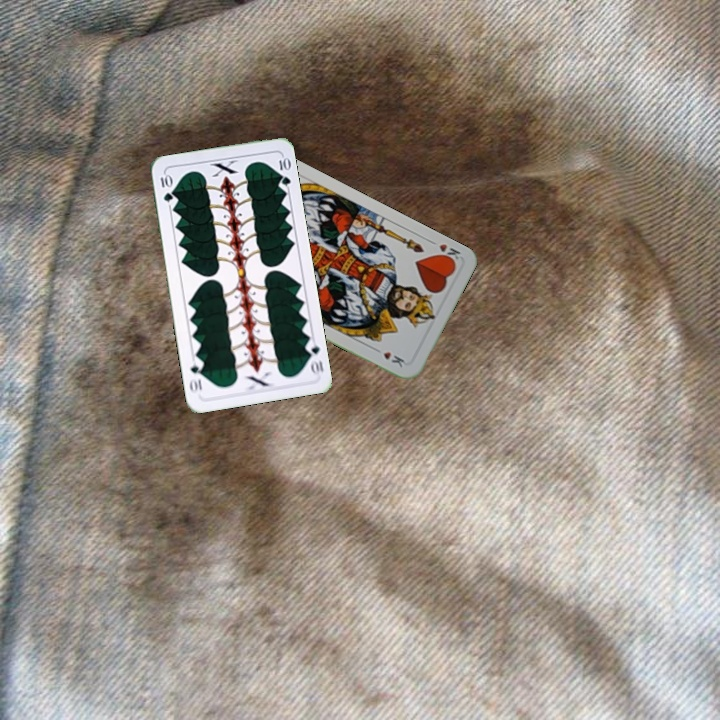G10: (302, 337, 326, 377), (156, 170, 175, 204)
HK: (433, 240, 463, 266)
